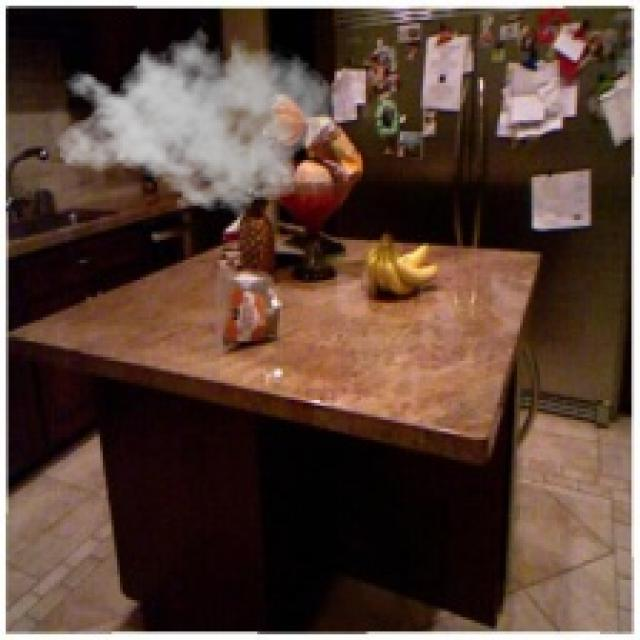smoke: (54, 17, 337, 223)
